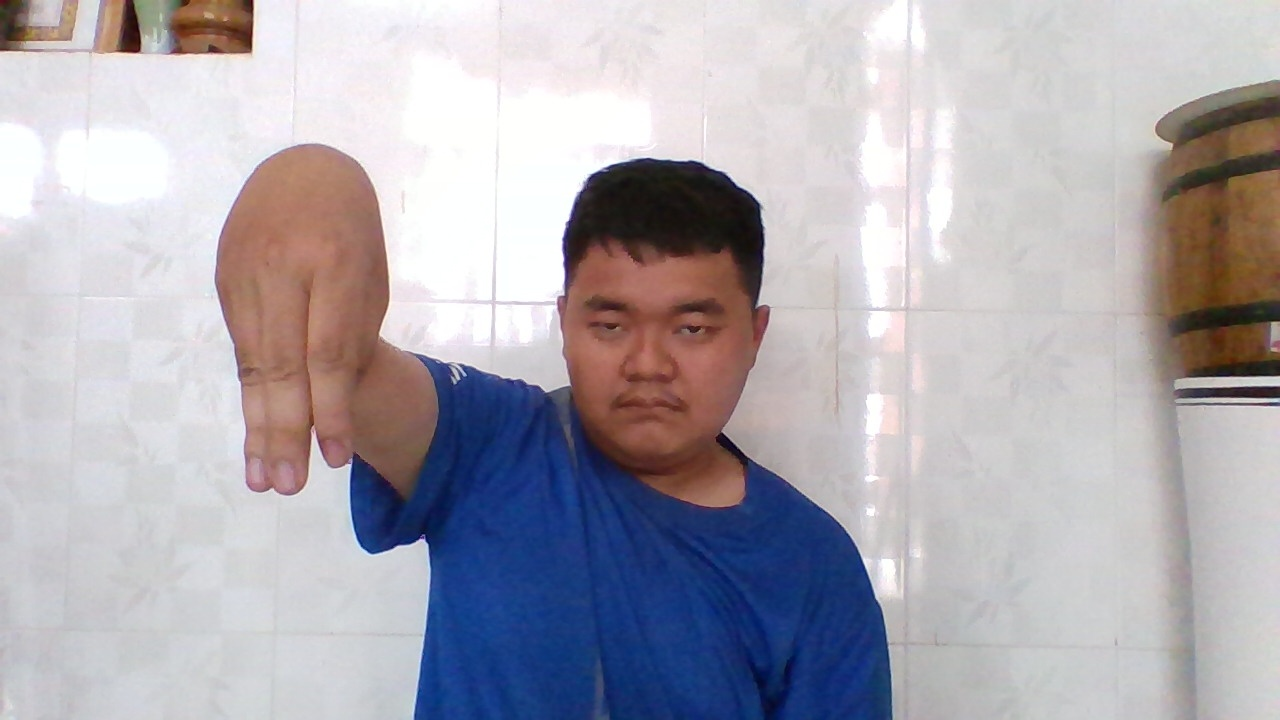M: (205, 143, 393, 504)
